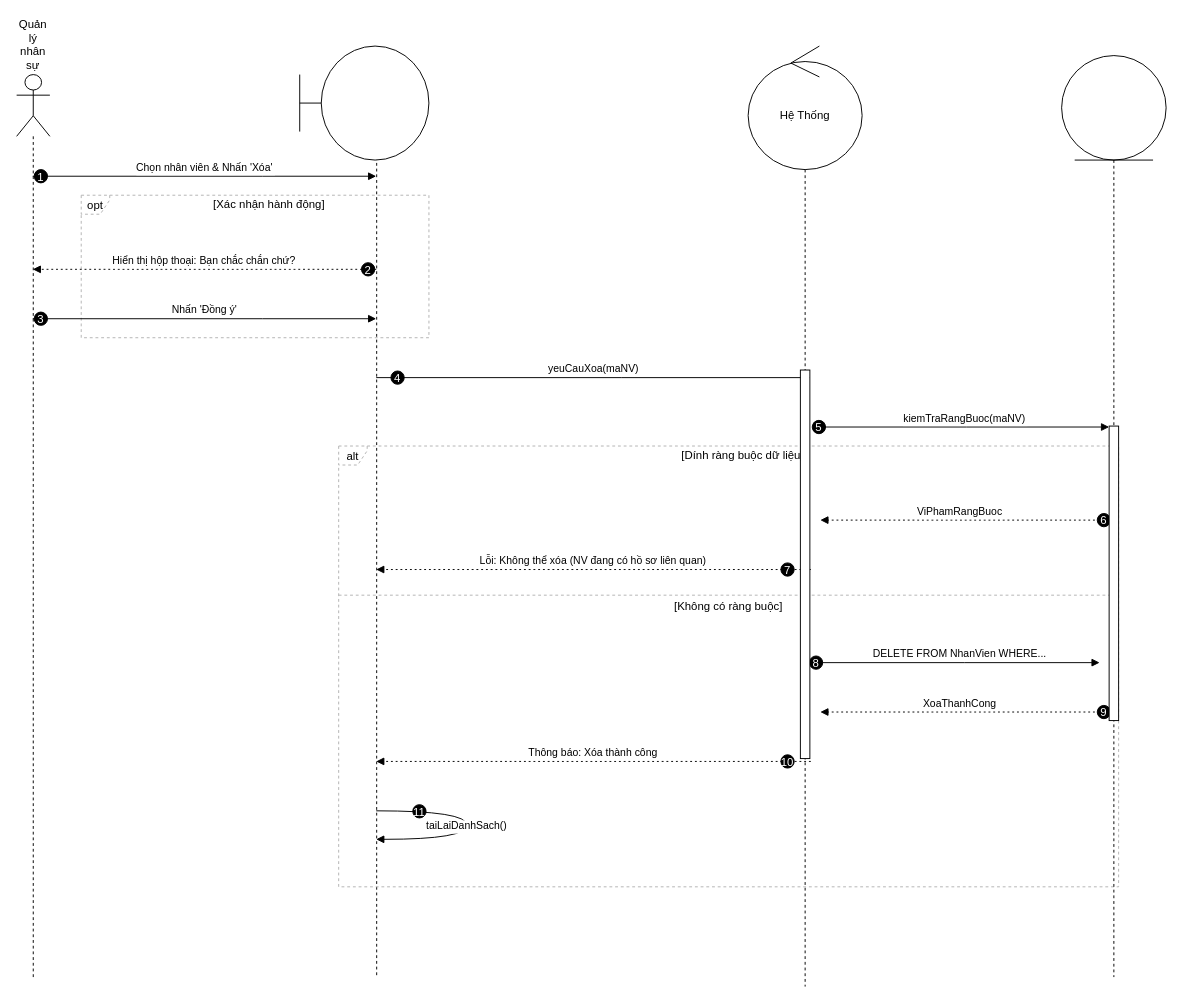
Image size: 1183x1003. Some labels were removed from this diagram. The shapes that lost their labels are listed below. From the top down, each one's box as (x1, y1, x2, y2) in pixels, then its label:
(299, 45, 429, 160): Giao diện
(1061, 55, 1166, 977): Cơ sở dữ liệu
